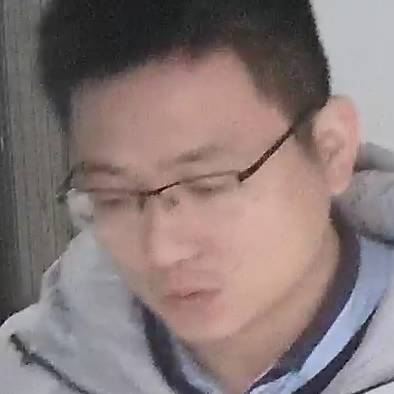gg: (37, 38, 348, 349)
